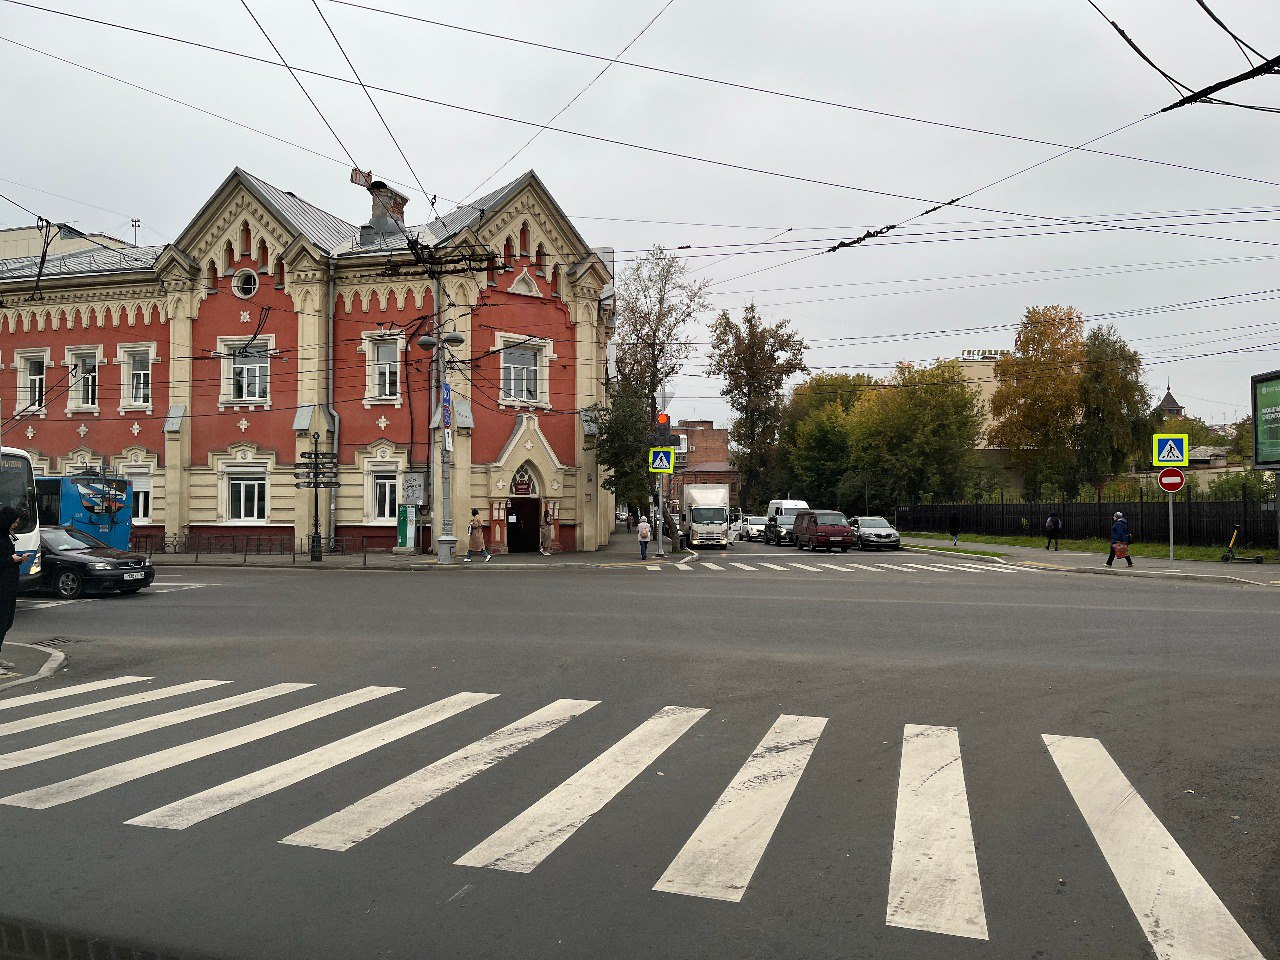sign: (1149, 431, 1192, 469), (647, 447, 676, 474), (1156, 467, 1185, 493), (439, 381, 453, 405), (440, 407, 454, 428)
